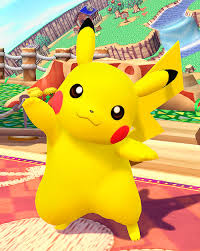pikachu: (21, 15, 182, 238)
